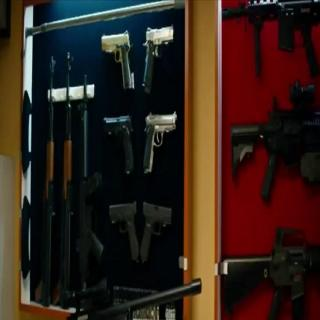gun: (228, 80, 316, 201), (220, 224, 315, 316), (222, 0, 318, 70), (78, 63, 105, 307), (57, 44, 75, 301), (39, 46, 56, 302), (102, 104, 138, 180), (140, 107, 178, 175), (110, 190, 142, 265), (139, 194, 177, 256), (139, 20, 172, 84), (100, 23, 132, 86)
